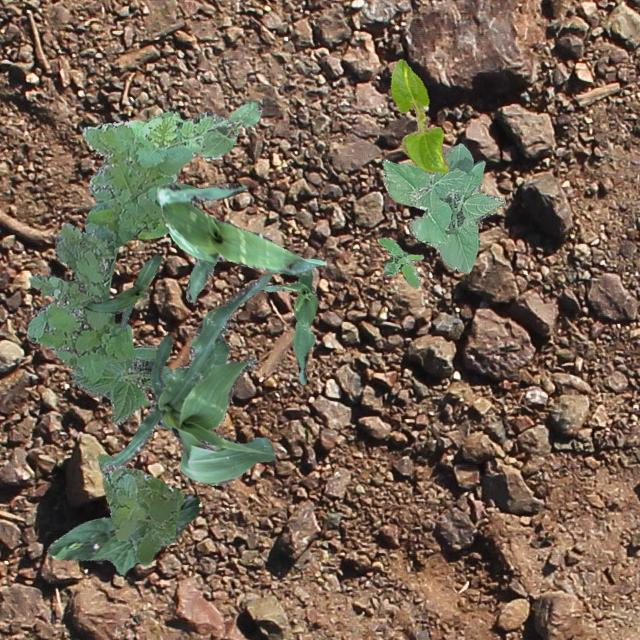crop: (102, 272, 274, 484), (154, 182, 324, 302), (380, 142, 504, 272), (46, 492, 198, 574), (70, 344, 172, 424), (388, 59, 448, 172), (262, 267, 316, 383), (84, 254, 162, 328), (200, 100, 260, 160)
weed: (27, 110, 228, 380), (96, 454, 182, 564), (378, 238, 422, 286)
